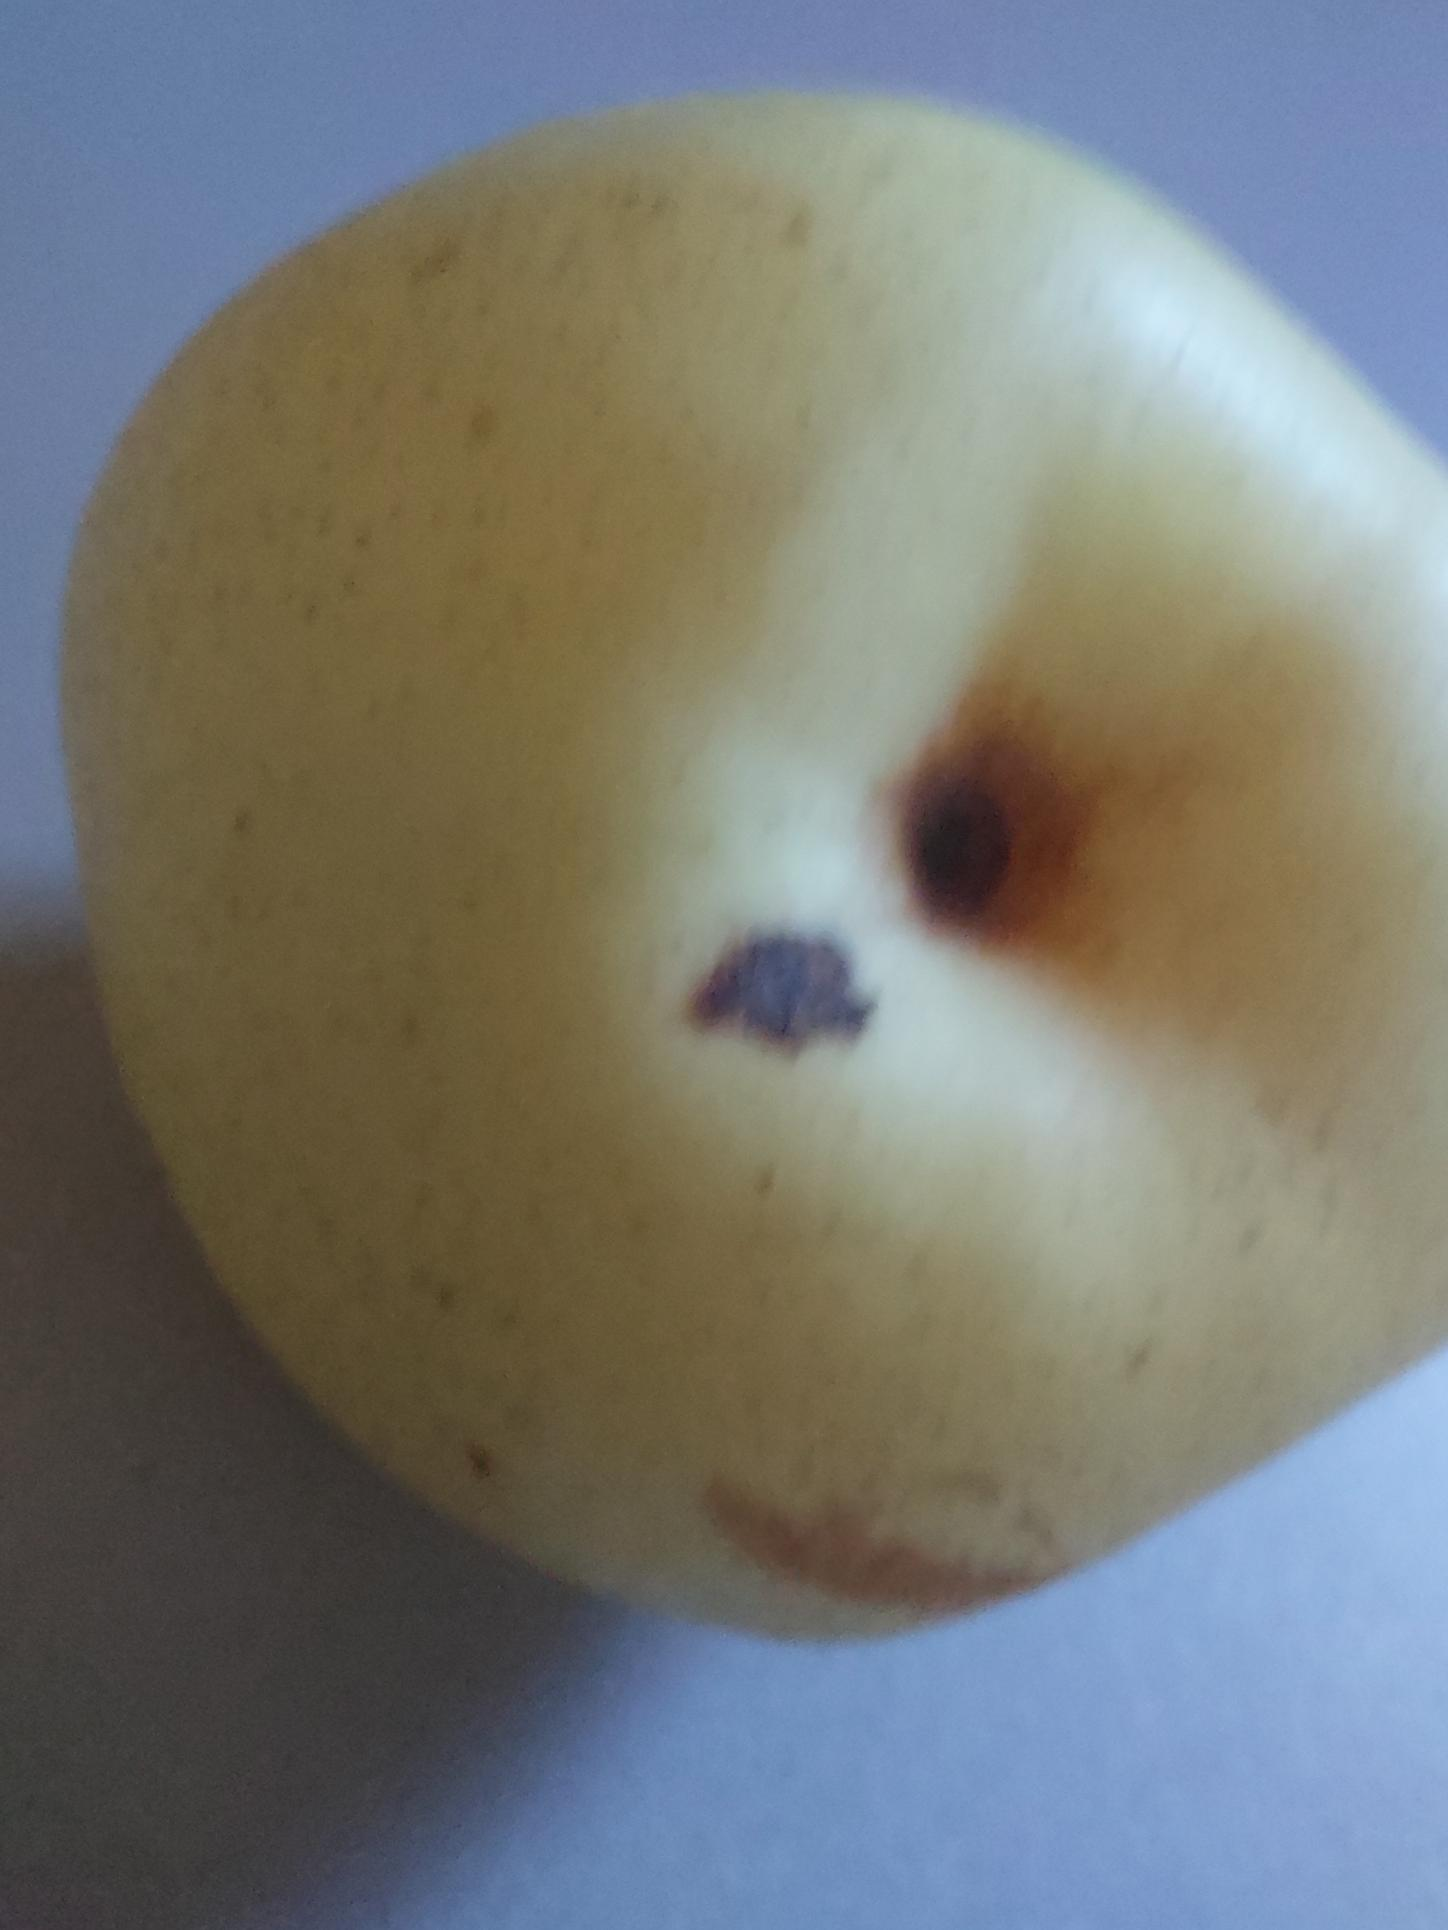Good Pear: (0, 0, 1448, 1693)
